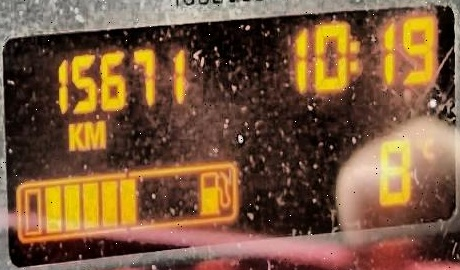0: (313, 21, 346, 91)
1: (381, 20, 394, 87), (293, 26, 306, 92), (57, 57, 66, 114), (174, 48, 183, 103)
5: (70, 53, 95, 114)
6: (99, 51, 124, 110)
7: (132, 49, 153, 105)
8: (377, 139, 410, 205)
9: (400, 15, 434, 84)
X: (82, 119, 105, 150), (67, 122, 84, 152), (347, 39, 358, 74), (420, 134, 435, 158)
